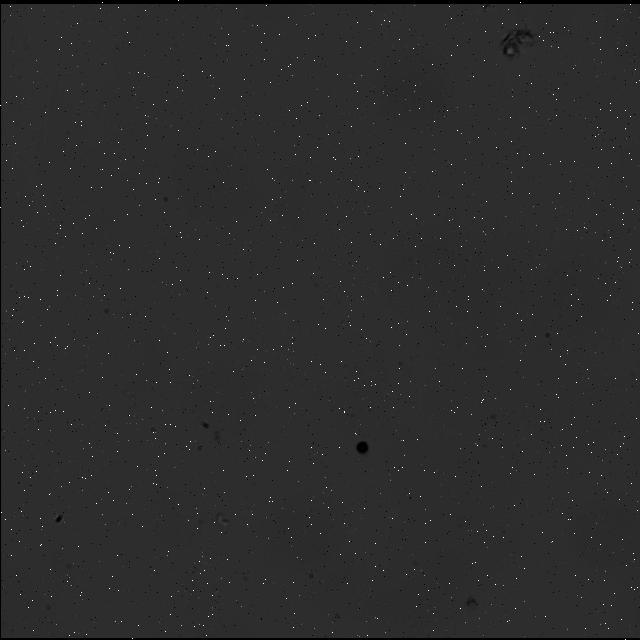microbeads: (354, 441, 368, 455)
